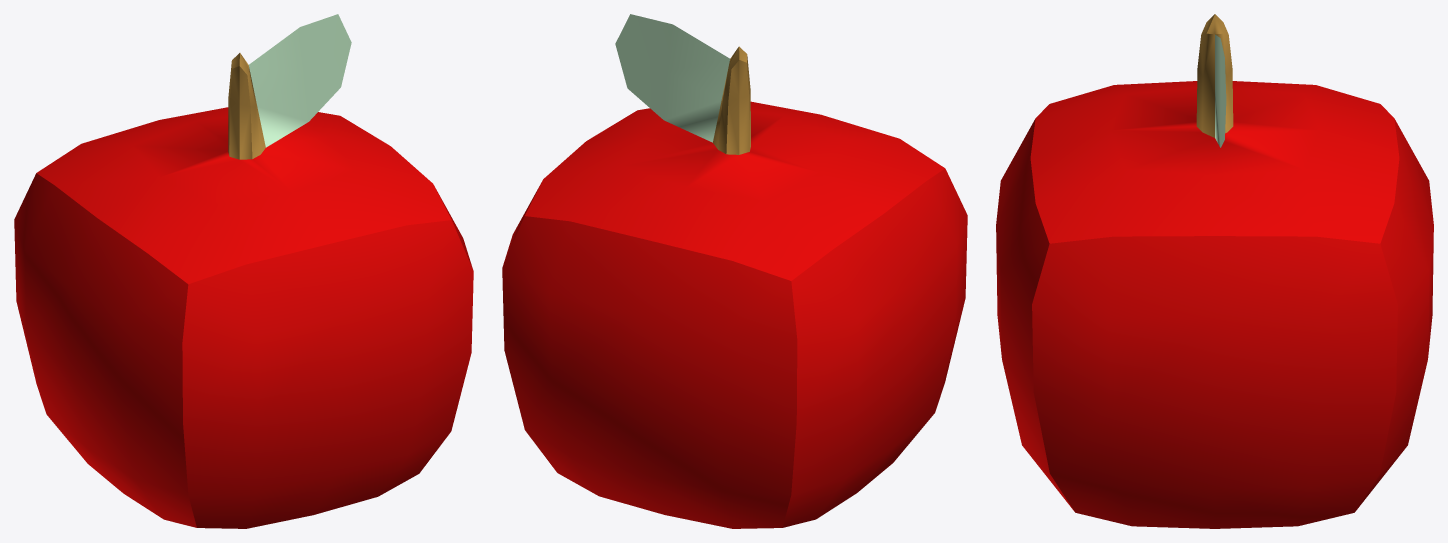
File: Apple.fbx
3 views of the same model, side by side, from view 1: azimuth 30°, elevation 25°; view 2: azimuth 150°, elevation 25°; view 3: azimuth 270°, elevation 25° (orthographic). The views are drawn at different scales.
Visible parts, largest first — view 1: Apple.001; view 2: Apple.001; view 3: Apple.001.
Boxes of the visible parts, x1,y1,x2,y2 form: Apple.001: (14,14,473,528); Apple.001: (502,14,967,528); Apple.001: (996,14,1433,528).
Bounding box in the file's own units: 249 × 296 × 249.
